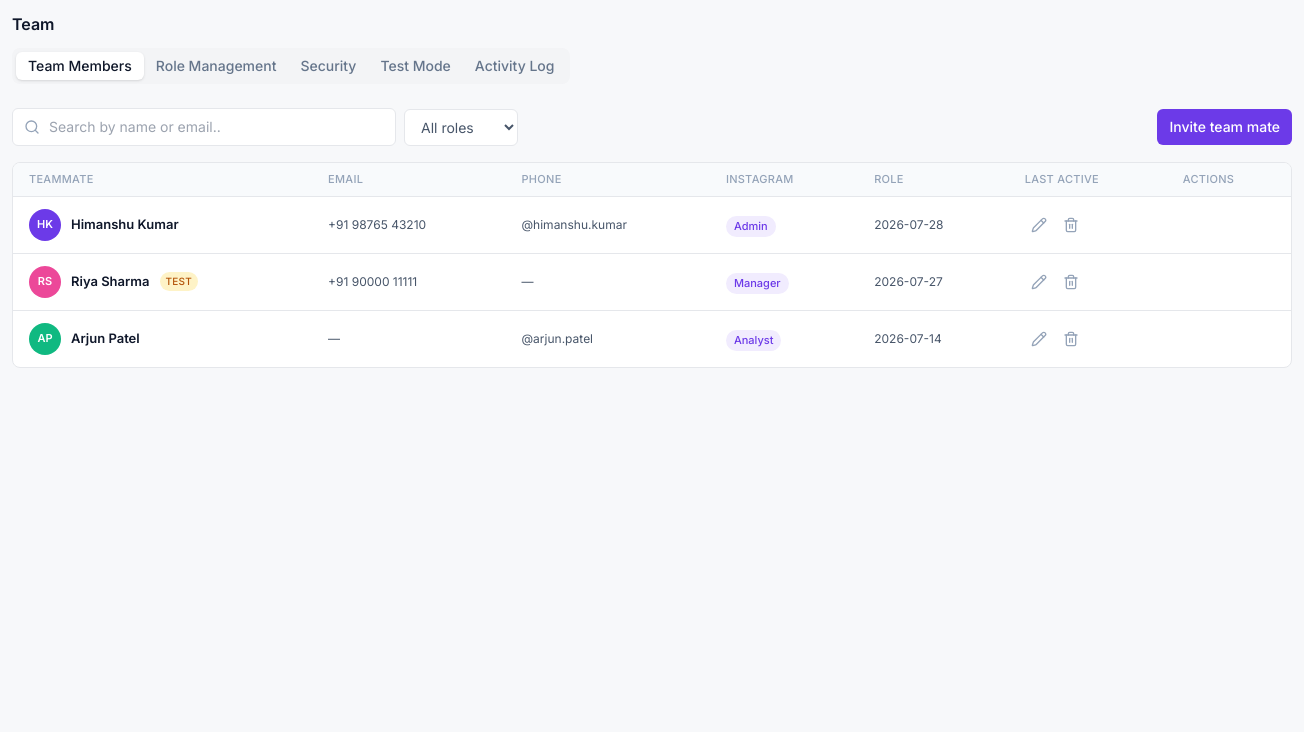
Scenario: TeamManagementPanel › renaming a custom role updates the sidebar nav button
Press the mouse on the tab with test id "team-tab-roles" at [216, 66], box 144,52 -> 288,80
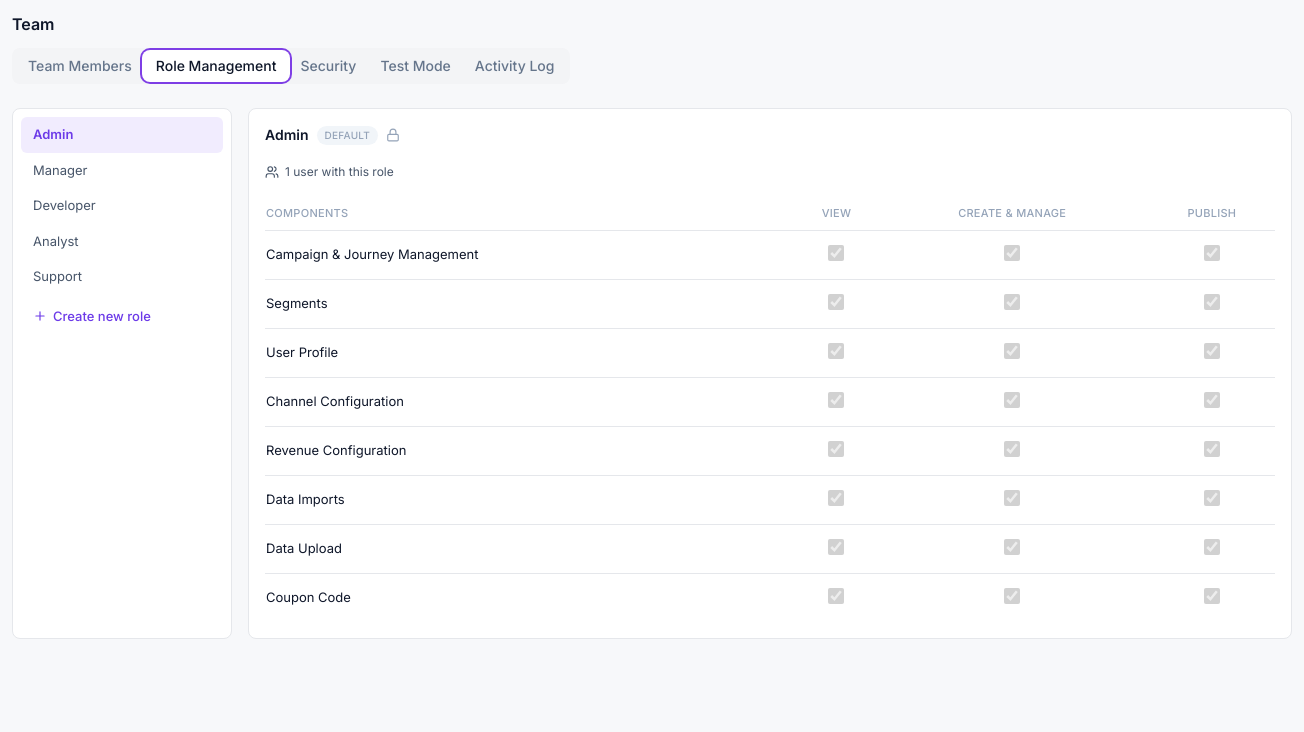
Click the button with test id "role-create-btn". click: [122, 316]
box: 21,298 -> 223,334
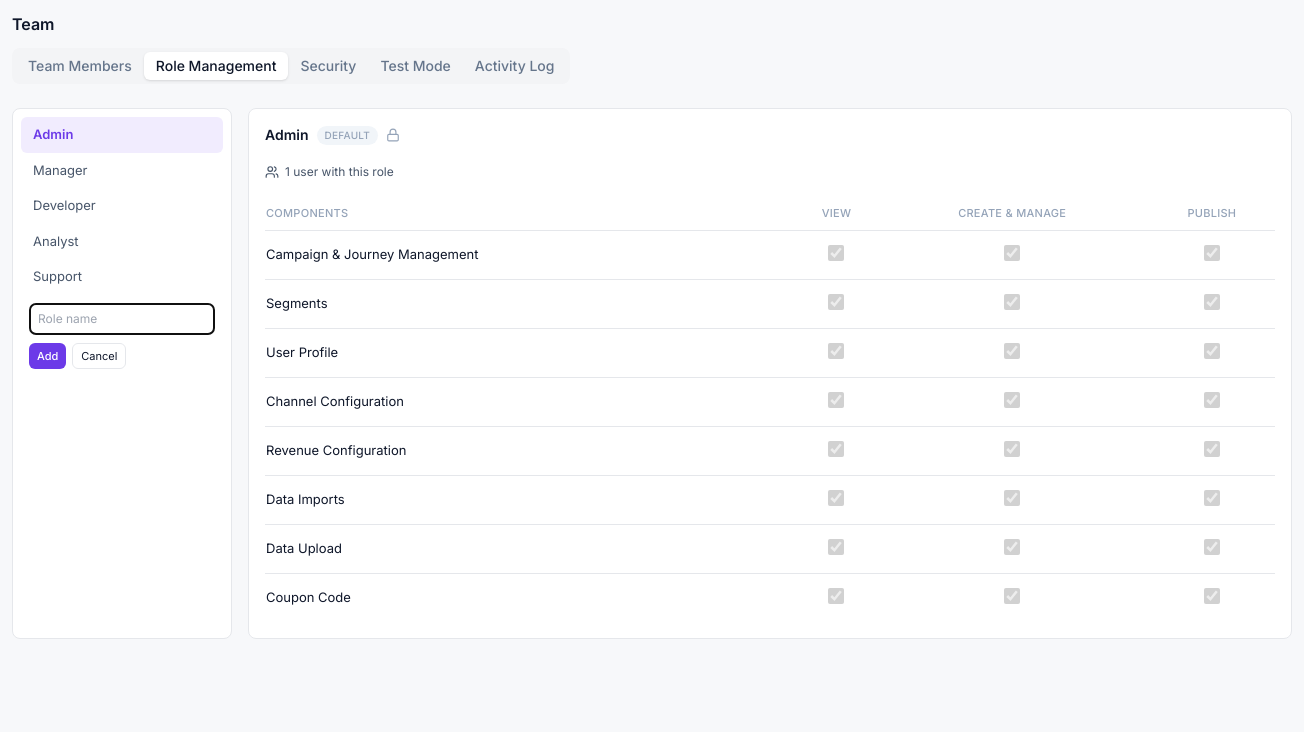
Type "Growth" into the field with test id "role-new-name-input". click: [122, 318]
box: 29,302 -> 215,334
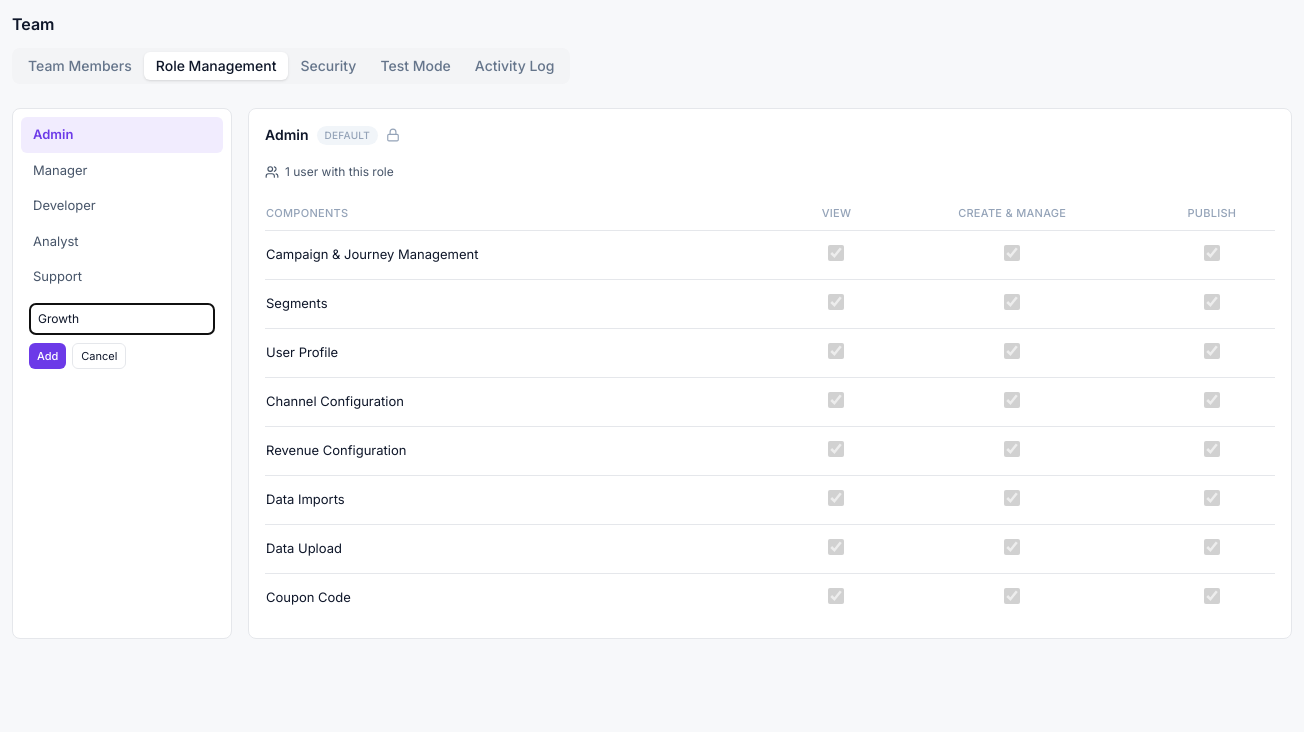
Click the button with test id "role-new-confirm". click: [48, 356]
box: 29,342 -> 66,369
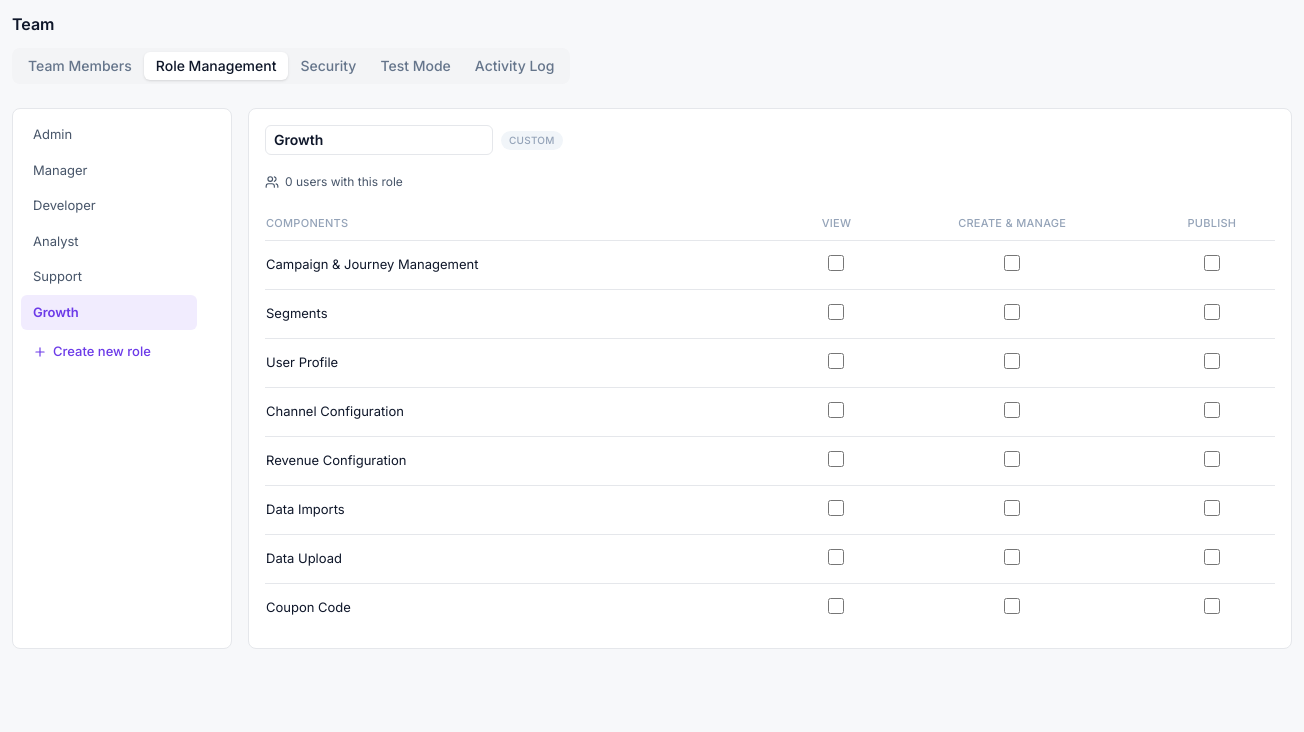
Replace the text in the field with test id "role-name-input-custom-growth" with "Growth Team". click: [379, 140]
box: 265,125 -> 493,155
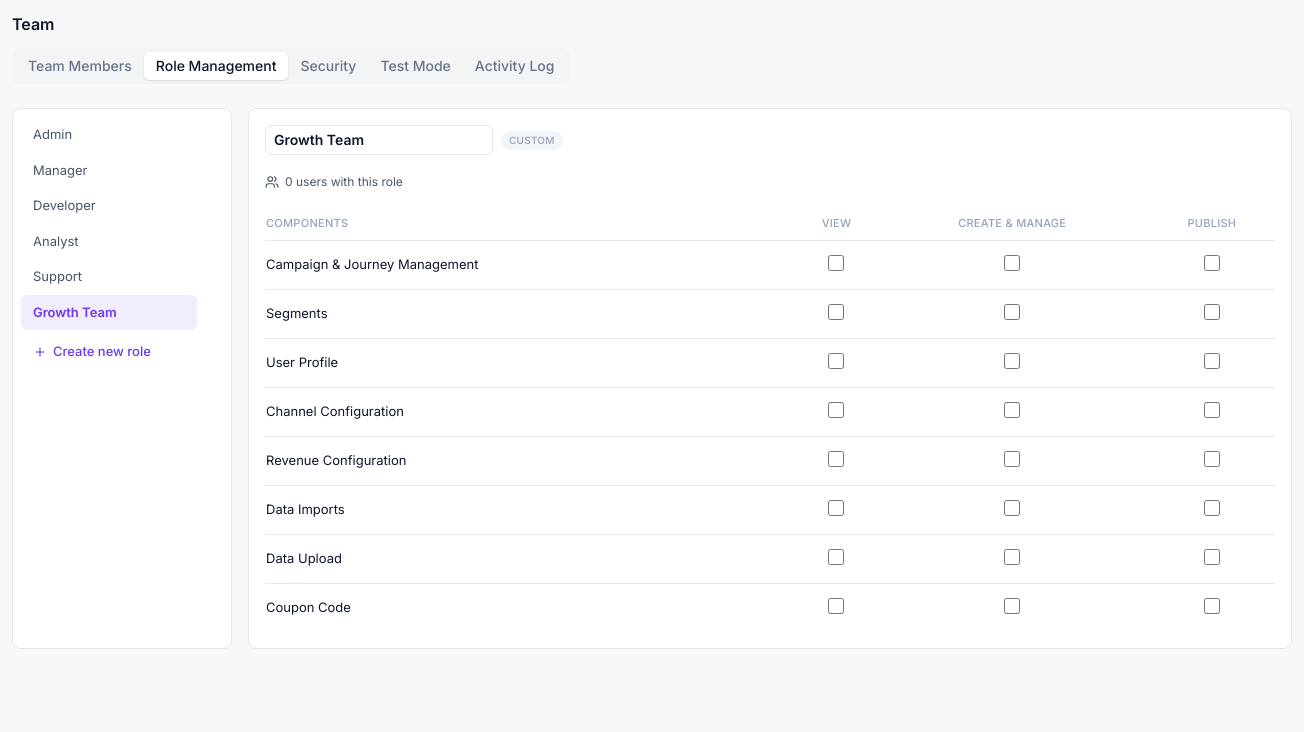
Expected: the button with test id "role-nav-custom-growth" reads "Growth Team", 21,294 -> 197,330
